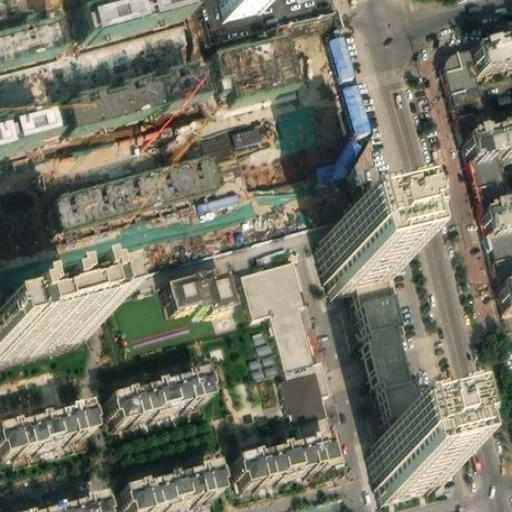building: (437, 41, 512, 280), (42, 163, 207, 238), (54, 69, 199, 134), (240, 257, 313, 371), (353, 283, 408, 391), (217, 26, 302, 92), (104, 376, 207, 428), (362, 426, 435, 495), (0, 301, 85, 357), (314, 230, 386, 296), (117, 465, 218, 512), (232, 439, 332, 485), (0, 406, 87, 456), (74, 0, 188, 37), (163, 270, 232, 309), (454, 110, 512, 154), (0, 18, 60, 59), (279, 364, 323, 417), (380, 384, 418, 437), (0, 109, 50, 149), (317, 132, 362, 176), (464, 27, 512, 67), (342, 76, 371, 129), (192, 188, 240, 219), (21, 494, 101, 512), (475, 191, 512, 228), (193, 127, 235, 159), (329, 28, 357, 75), (232, 117, 268, 146), (312, 355, 330, 391), (493, 275, 512, 308)
